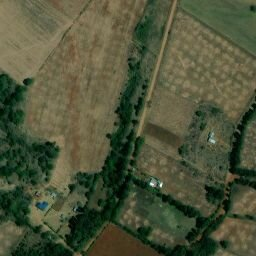tree: (23, 78, 35, 86), (67, 183, 77, 191), (136, 225, 144, 235), (199, 122, 207, 131), (97, 198, 104, 206), (131, 119, 139, 126), (129, 159, 136, 167), (84, 181, 91, 189), (46, 163, 53, 170), (195, 109, 201, 116), (142, 84, 149, 90), (105, 133, 112, 139), (218, 165, 224, 171), (43, 177, 50, 182), (200, 145, 205, 150), (83, 172, 88, 177)
